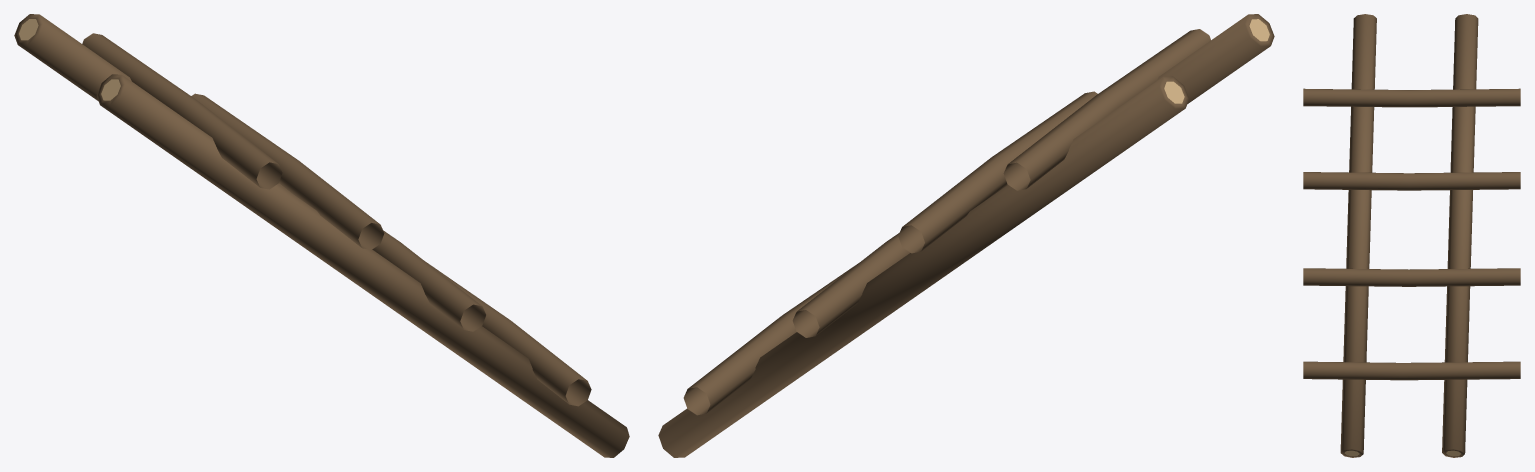
Rendered from rpgpp_ag_roof_support_01_6x3x3_roof_01b_half_b.fbx.
3 renders of one model, left to right at view 1: azimuth 30°, elevation 25°; view 2: azimuth 150°, elevation 25°; view 3: azimuth 270°, elevation 25°, orthographic. The views are drawn at different scales.
Visible parts, largest first — view 1: rpgpp_ag_roof_support_01_6x3x3_roof_01b_half_b; view 2: rpgpp_ag_roof_support_01_6x3x3_roof_01b_half_b; view 3: rpgpp_ag_roof_support_01_6x3x3_roof_01b_half_b.
Boxes of the visible parts, x1=… form: rpgpp_ag_roof_support_01_6x3x3_roof_01b_half_b: x1=14, y1=14, x2=629, y2=457; rpgpp_ag_roof_support_01_6x3x3_roof_01b_half_b: x1=658, y1=14, x2=1274, y2=457; rpgpp_ag_roof_support_01_6x3x3_roof_01b_half_b: x1=1303, y1=14, x2=1520, y2=457.
Size of the model in its own units: 5.06 by 4.6 by 3.
